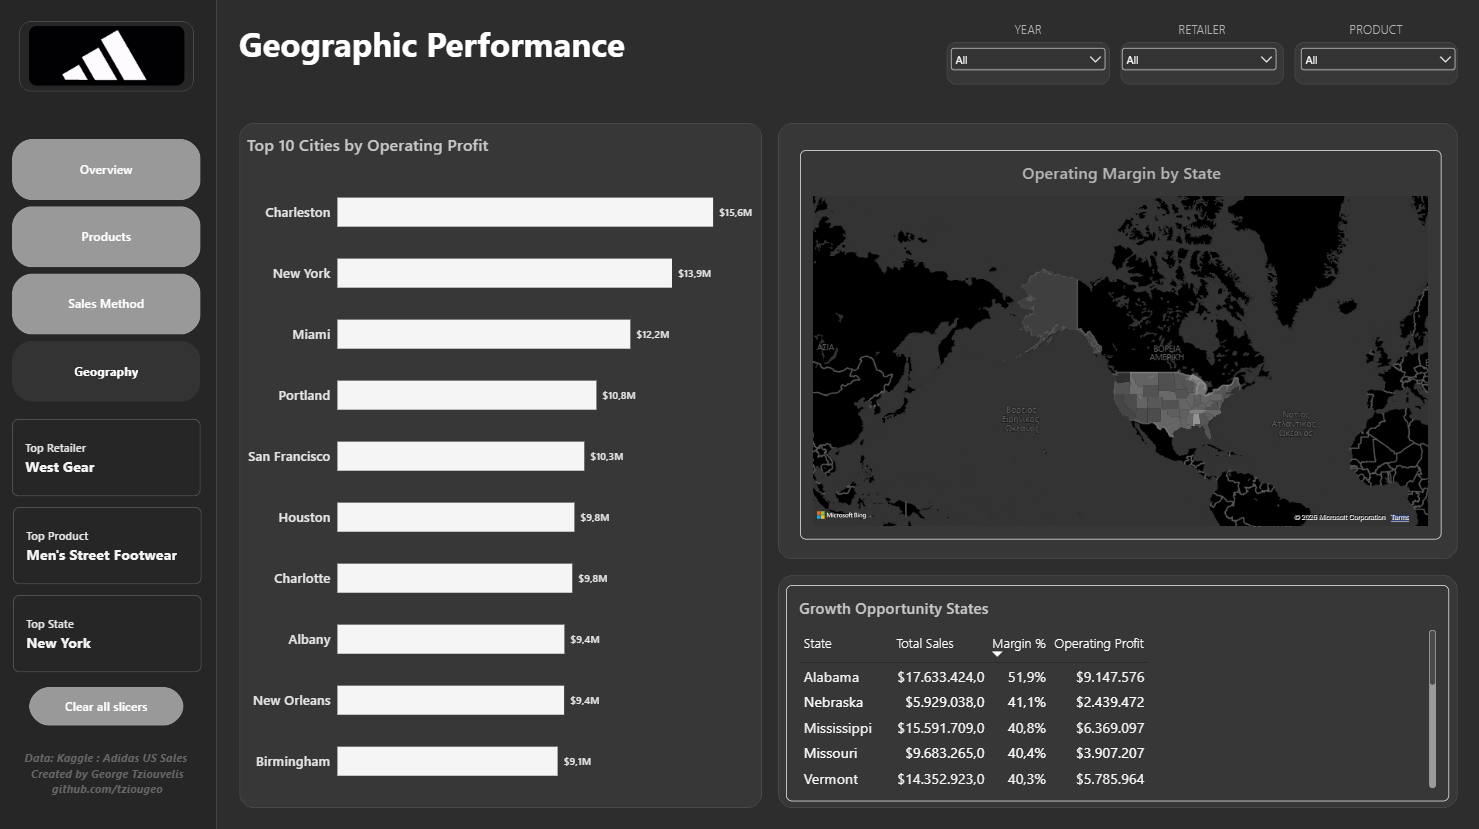

The page's visual inventory and layout, read from the dashboard file:
{"tool":"powerbi","page":{"name":"Geography","canvas":[1920,1080],"ordinal":3},"visuals":[{"type":"image","box":[42.3,36.5,201.3,77.3],"z":0},{"type":"clusteredBarChart","title":"Top 10 Cities by Operating Profit","fields":{"Category":["Data Sales Adidas.City"],"Y":["Measuress.Operating Profit"]},"box":[325,175,655,865],"z":1000},{"type":"tableEx","title":"Growth Opportunity States","fields":{"Values":["Data Sales Adidas.State","Measuress.Total Sales","Measuress.Margin %","Measuress.Operating Profit"]},"box":[1022,760,858,280],"z":3000},{"type":"slicer","title":"YEAR","fields":{"Values":["Date.Year"]},"box":[1230,60,210,54],"z":4000},{"type":"slicer","title":"YEAR","fields":{"Values":["Data Sales Adidas.Retailer"]},"box":[1451.7,59.8,210,54],"z":5000},{"type":"slicer","title":"YEAR","fields":{"Values":["Data Sales Adidas.Product"]},"box":[1683.6,59.8,210,54],"z":6000},{"type":"textbox","box":[1455,30,210,28],"z":7000},{"type":"textbox","box":[1230,30,210,28],"z":8000},{"type":"textbox","box":[1680,30,210,28],"z":9000},{"type":"textbox","box":[315,30.2,840.7,73.3],"z":10000},{"type":"pageNavigator","box":[21,183,244.3,343.2],"z":11000},{"type":"textbox","box":[21.6,972.9,244.3,80.5],"z":12000},{"type":"actionButton","box":[43.1,891,200,50],"z":13000},{"type":"filledMap","title":"Operating Margin by State","fields":{"Category":["Data Sales Adidas.State"]},"box":[1040.4,196.2,830.3,503.7],"z":13001},{"type":"cardVisual","fields":{"Data":["Measuress.Top Retailer"]},"box":[21,545,244,100],"z":13002},{"type":"cardVisual","fields":{"Data":["Measuress.Top Product"]},"box":[22,659,244,100],"z":13003},{"type":"cardVisual","fields":{"Data":["Measuress.Top State"]},"box":[22,773,244.5,100],"z":13004}]}

Visuals, with their boxes in screenshot pixels (x1, y1, x2, y2), scaled from the page's 1920x1080 canvas onto the 1479x829 screenshot:
image: x1=33, y1=28, x2=188, y2=87
"Top 10 Cities by Operating Profit" clusteredBarChart: x1=250, y1=134, x2=755, y2=798
"Growth Opportunity States" tableEx: x1=787, y1=583, x2=1448, y2=798
"YEAR" slicer: x1=947, y1=46, x2=1109, y2=88
"YEAR" slicer: x1=1118, y1=46, x2=1280, y2=87
"YEAR" slicer: x1=1297, y1=46, x2=1459, y2=87
textbox: x1=1121, y1=23, x2=1283, y2=45
textbox: x1=947, y1=23, x2=1109, y2=45
textbox: x1=1294, y1=23, x2=1456, y2=45
textbox: x1=243, y1=23, x2=890, y2=79
pageNavigator: x1=16, y1=140, x2=204, y2=404
textbox: x1=17, y1=747, x2=205, y2=809
actionButton: x1=33, y1=684, x2=187, y2=722
"Operating Margin by State" filledMap: x1=801, y1=151, x2=1441, y2=537
cardVisual - Measuress.Top Retailer: x1=16, y1=418, x2=204, y2=495
cardVisual - Measuress.Top Product: x1=17, y1=506, x2=205, y2=583
cardVisual - Measuress.Top State: x1=17, y1=593, x2=205, y2=670
